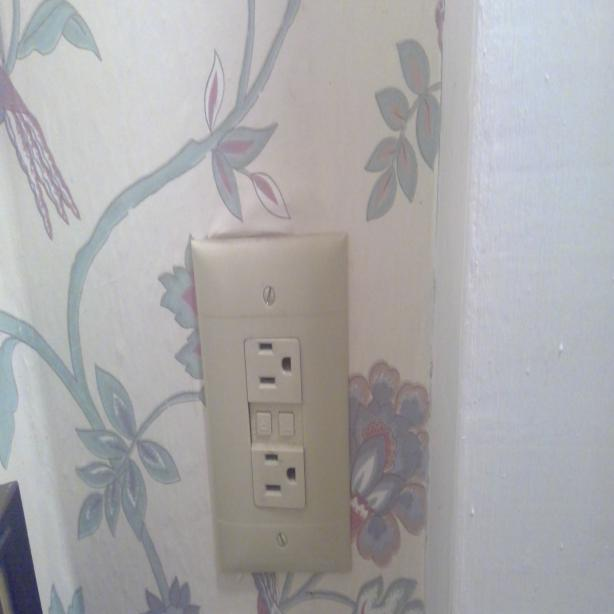typeb: (243, 334, 302, 407), (249, 441, 306, 509)
